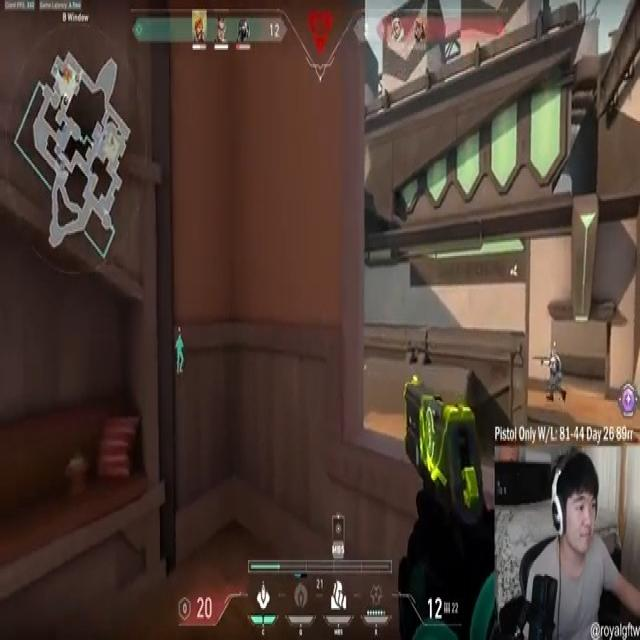ally: (480, 255, 520, 334), (537, 338, 565, 401), (171, 326, 191, 367), (172, 330, 187, 375), (174, 322, 188, 364)
